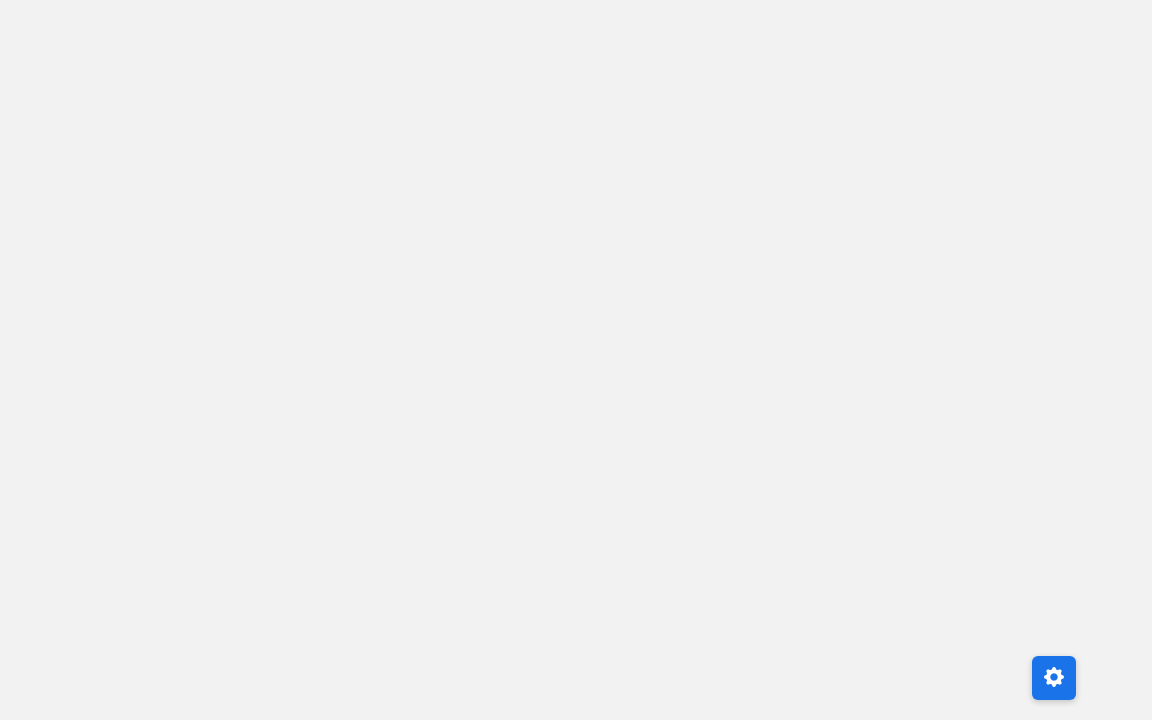
Test: Settings › toggles between light and dark mode
Click the button named "Settings" at [1054, 678], box [1032,656,1076,700]
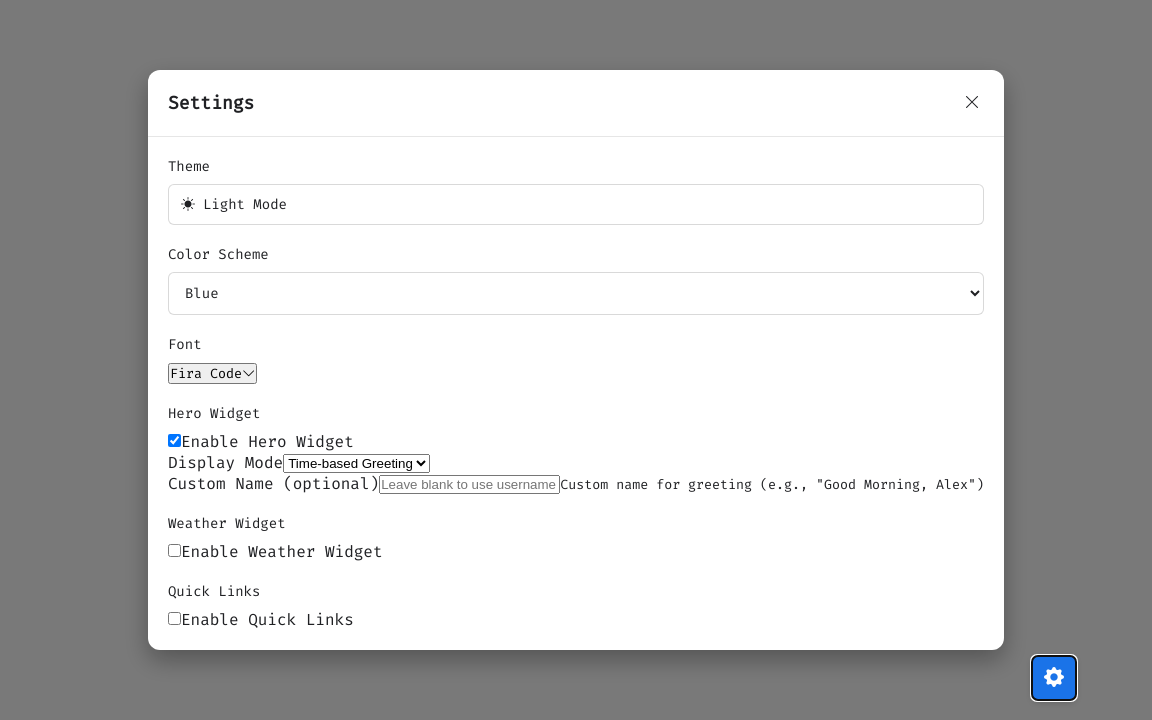
Click the button "Light Mode" at [224, 204], box [168,184,984,225]
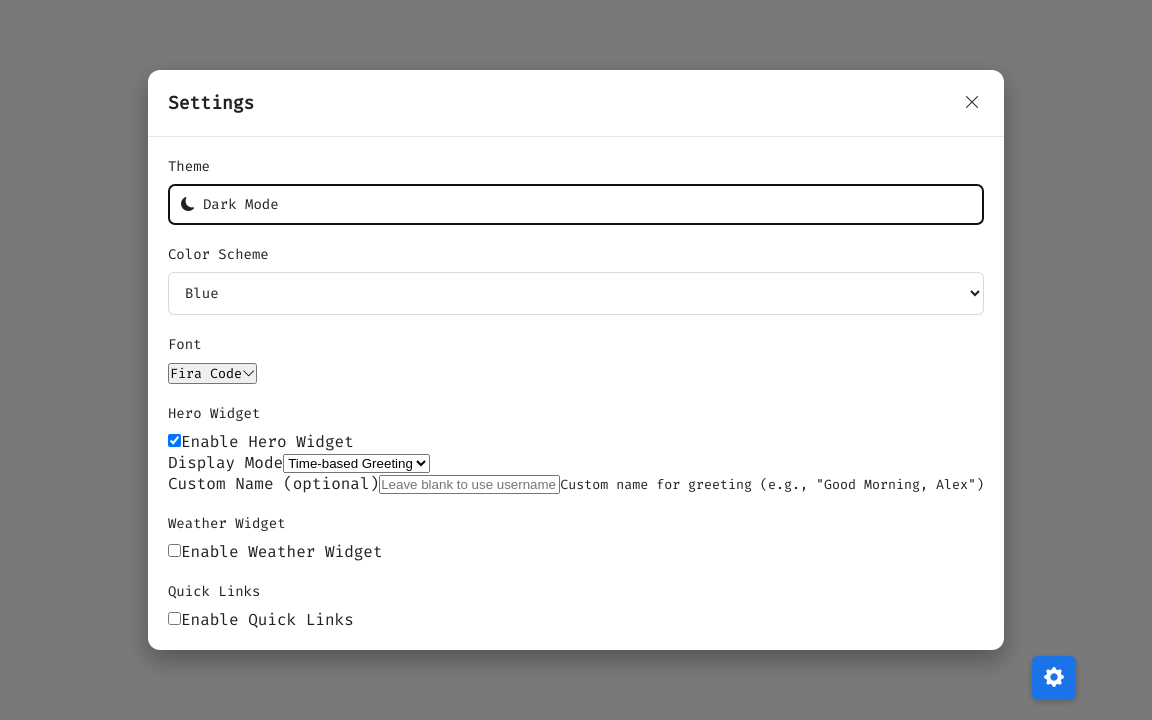
Check: the button "Dark Mode" is shown, box [168,184,984,225]
